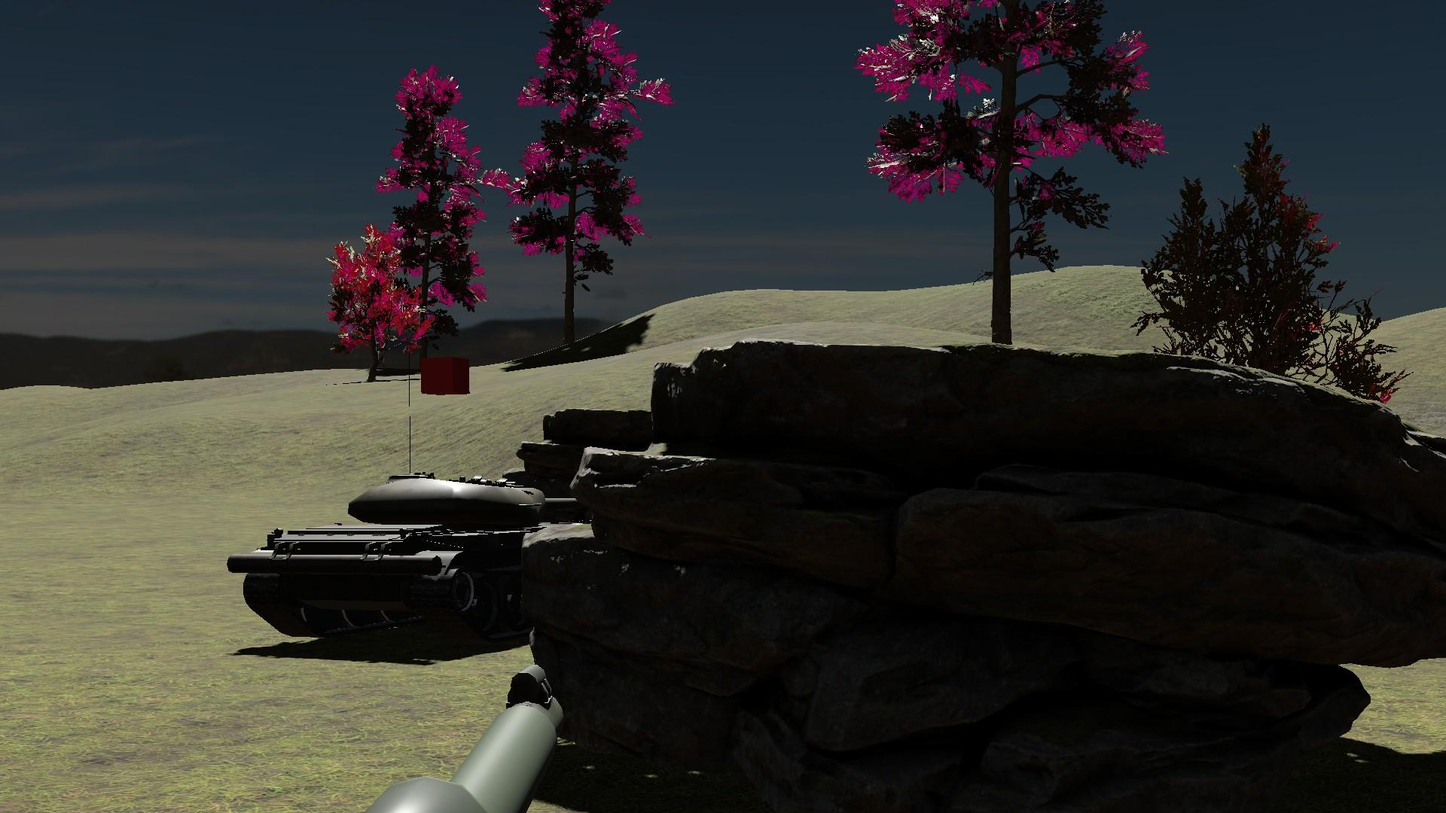Tank: (222, 458, 600, 656)
